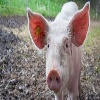heo: (24, 2, 91, 92)
